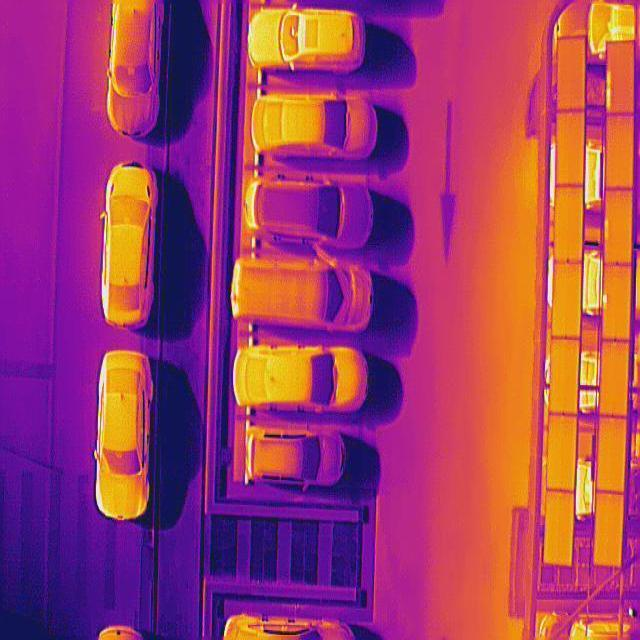Cell: (602, 262, 632, 342)
Cell-Multi: (606, 42, 637, 118)
No-Anomaly: (546, 412, 578, 493), (597, 415, 629, 494), (600, 340, 631, 420), (551, 258, 581, 338), (555, 185, 585, 264), (543, 491, 575, 565), (556, 36, 587, 112), (606, 114, 636, 190), (604, 190, 634, 265), (550, 339, 579, 416), (594, 494, 624, 566), (556, 112, 585, 186)
